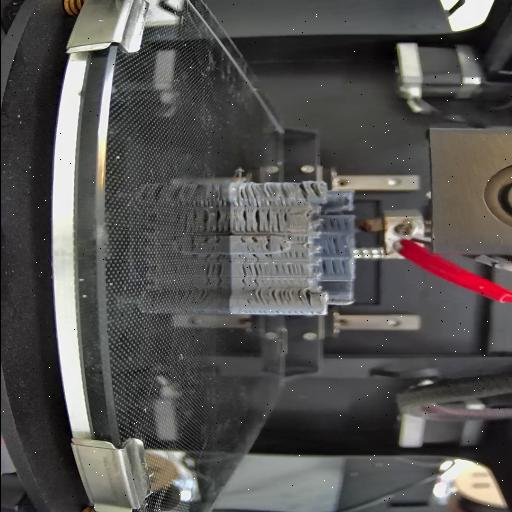cracks: (234, 183, 288, 207), (252, 288, 312, 307), (233, 210, 270, 233), (298, 181, 320, 203), (320, 259, 346, 277), (236, 252, 272, 262), (273, 264, 303, 276), (322, 238, 342, 256), (238, 264, 262, 278), (323, 216, 347, 230), (273, 213, 289, 233), (262, 236, 274, 252), (282, 252, 306, 260), (238, 278, 262, 286), (286, 236, 308, 244), (238, 236, 258, 244), (276, 244, 286, 252)
